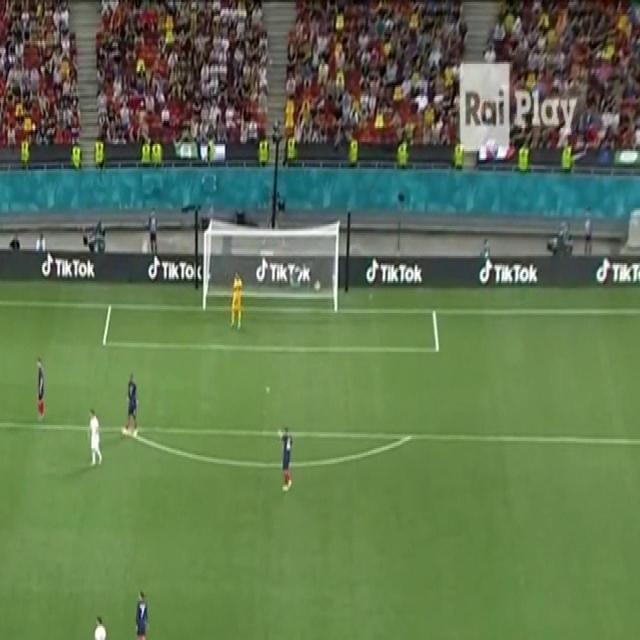player-white: (119, 369, 139, 441), (275, 424, 295, 496), (87, 407, 103, 470), (228, 269, 244, 332), (132, 588, 150, 640), (34, 354, 46, 426), (90, 611, 107, 640)
